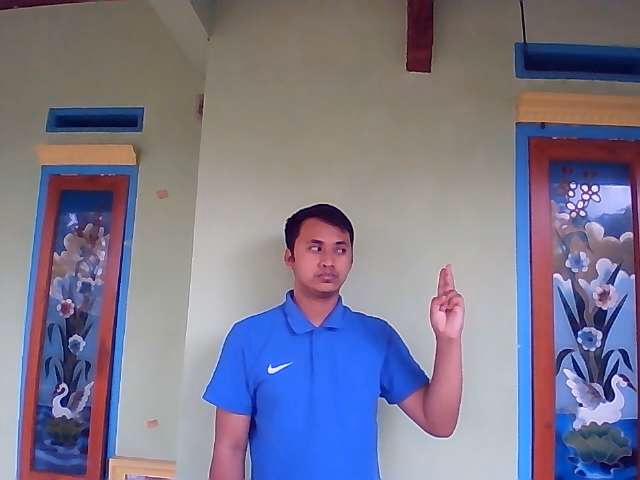U: (427, 263, 466, 339)
